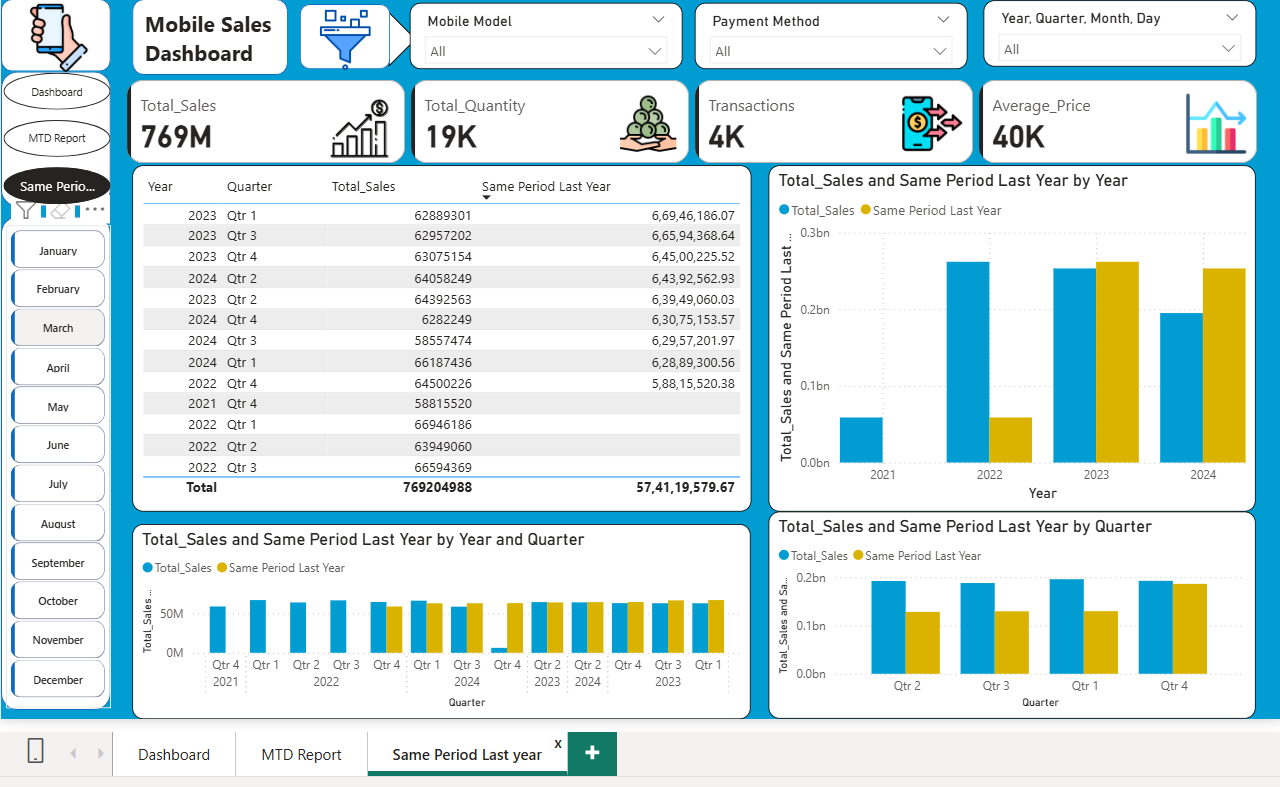

The dashboard page shown, as its layout file describes it:
{"tool":"powerbi","page":{"name":"Same Period Last year ","canvas":[1280,720],"ordinal":2},"visuals":[{"type":"shape","box":[0,0,109.8,72.4],"z":0},{"type":"shape","box":[0,72.4,109.8,135.1],"z":1000},{"type":"cardVisual","fields":{"Data":["Mobile_Sales.Total_Sales","Mobile_Sales.Total_Quantity","Mobile_Sales.Transactions","Mobile_Sales.Average_Price"]},"box":[121.2,76.2,1143.8,93.8],"z":2000},{"type":"shape","box":[355.9,12.1,59.1,55.5],"z":3000},{"type":"slicer","fields":{"Values":["Mobile_Sales.Mobile Model"]},"box":[409,3.6,272.7,66.4],"z":4000},{"type":"slicer","fields":{"Values":["Mobile_Sales.Payment Method"]},"box":[693.7,3.6,272.7,66.4],"z":5000},{"type":"slicer","fields":{"Values":["Custom_Calendar.Date.Variation.Date Hierarchy.Year","Custom_Calendar.Date.Variation.Date Hierarchy.Quarter","Custom_Calendar.Date.Variation.Date Hierarchy.Month","Custom_Calendar.Date.Variation.Date Hierarchy.Day"]},"box":[982.5,1.2,272.5,66.2],"z":6000},{"type":"shape","box":[299.2,4.8,90.5,65.1],"z":7000},{"type":"image","box":[296.8,4.8,95.3,72.4],"z":8000},{"type":"shape","box":[131.5,0,155.6,76],"z":9000},{"type":"textbox","box":[138.7,4.8,141.2,80.8],"z":10000},{"type":"shape","box":[0,217.2,109.8,493.4],"z":12000},{"type":"advancedSlicerVisual","fields":{"Values":["Custom_Calendar.Date.Variation.Date Hierarchy.Month"]},"box":[4.8,226.8,105,483.8],"z":13000},{"type":"tableEx","fields":{"Values":["Custom_Calendar.Date.Variation.Date Hierarchy.Year","Custom_Calendar.Date.Variation.Date Hierarchy.Quarter","Mobile_Sales.Total_Sales","Mobile_Sales.Same Period Last Year"]},"box":[131.5,166.5,618.9,346.2],"z":13001},{"type":"clusteredColumnChart","fields":{"Category":["Custom_Calendar.Date.Variation.Date Hierarchy.Year","Custom_Calendar.Date.Variation.Date Hierarchy.Quarter"],"Y":["Mobile_Sales.Total_Sales","Mobile_Sales.Same Period Last Year"]},"box":[767.5,166.2,487.5,346.2],"z":13002},{"type":"clusteredColumnChart","fields":{"Category":["Custom_Calendar.Date.Variation.Date Hierarchy.Year","Custom_Calendar.Date.Variation.Date Hierarchy.Quarter"],"Y":["Mobile_Sales.Total_Sales","Mobile_Sales.Same Period Last Year"]},"box":[131.2,525,618.8,195],"z":13003},{"type":"clusteredColumnChart","fields":{"Category":["Custom_Calendar.Date.Variation.Date Hierarchy.Year","Custom_Calendar.Date.Variation.Date Hierarchy.Quarter"],"Y":["Mobile_Sales.Total_Sales","Mobile_Sales.Same Period Last Year"]},"box":[767.5,512.5,487.5,207.5],"z":13004},{"type":"pageNavigator","box":[2.5,73.8,107.5,131.2],"z":13005},{"type":"image","box":[17.5,0,80,77.5],"z":13006}]}

Visuals, with their boxes on the page's 1280x720 design canvas (x1, y1, x2, y2). These are canvas units, not pixel positions in the 1280x787 screenshot, which may show the page scaled, cropped or inside an application window:
shape: pyautogui.locateOnScreen(0, 0, 110, 72)
shape: pyautogui.locateOnScreen(0, 72, 110, 208)
cardVisual - Mobile_Sales.Total_Sales x Mobile_Sales.Total_Quantity: pyautogui.locateOnScreen(121, 76, 1265, 170)
shape: pyautogui.locateOnScreen(356, 12, 415, 68)
slicer - Mobile_Sales.Mobile Model: pyautogui.locateOnScreen(409, 4, 682, 70)
slicer - Mobile_Sales.Payment Method: pyautogui.locateOnScreen(694, 4, 966, 70)
slicer - Custom_Calendar.Date.Variation.Date Hierarchy.Year x Custom_Calendar.Date.Variation.Date Hierarchy.Quarter: pyautogui.locateOnScreen(982, 1, 1255, 67)
shape: pyautogui.locateOnScreen(299, 5, 390, 70)
image: pyautogui.locateOnScreen(297, 5, 392, 77)
shape: pyautogui.locateOnScreen(132, 0, 287, 76)
textbox: pyautogui.locateOnScreen(139, 5, 280, 86)
shape: pyautogui.locateOnScreen(0, 217, 110, 711)
advancedSlicerVisual - Custom_Calendar.Date.Variation.Date Hierarchy.Month: pyautogui.locateOnScreen(5, 227, 110, 711)
tableEx - Custom_Calendar.Date.Variation.Date Hierarchy.Year x Custom_Calendar.Date.Variation.Date Hierarchy.Quarter: pyautogui.locateOnScreen(132, 166, 750, 513)
clusteredColumnChart - Custom_Calendar.Date.Variation.Date Hierarchy.Year x Custom_Calendar.Date.Variation.Date Hierarchy.Quarter: pyautogui.locateOnScreen(768, 166, 1255, 512)
clusteredColumnChart - Custom_Calendar.Date.Variation.Date Hierarchy.Year x Custom_Calendar.Date.Variation.Date Hierarchy.Quarter: pyautogui.locateOnScreen(131, 525, 750, 720)
clusteredColumnChart - Custom_Calendar.Date.Variation.Date Hierarchy.Year x Custom_Calendar.Date.Variation.Date Hierarchy.Quarter: pyautogui.locateOnScreen(768, 512, 1255, 720)
pageNavigator: pyautogui.locateOnScreen(2, 74, 110, 205)
image: pyautogui.locateOnScreen(18, 0, 98, 78)
